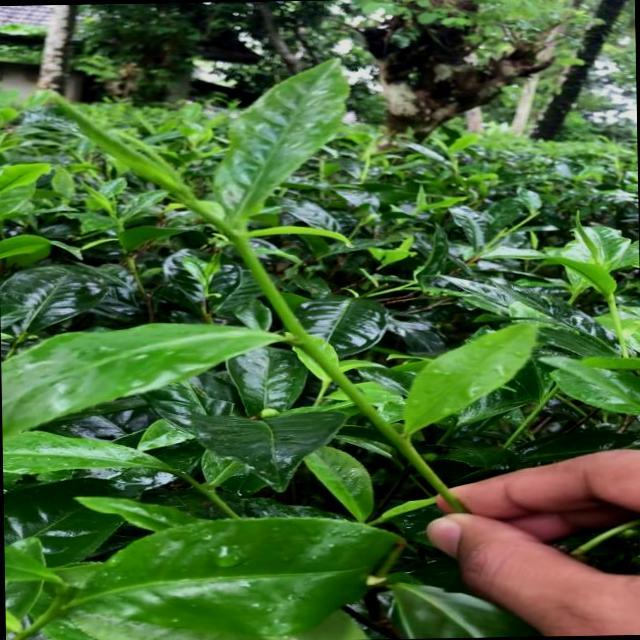Stem: (235, 238, 263, 273), (607, 296, 617, 315)
